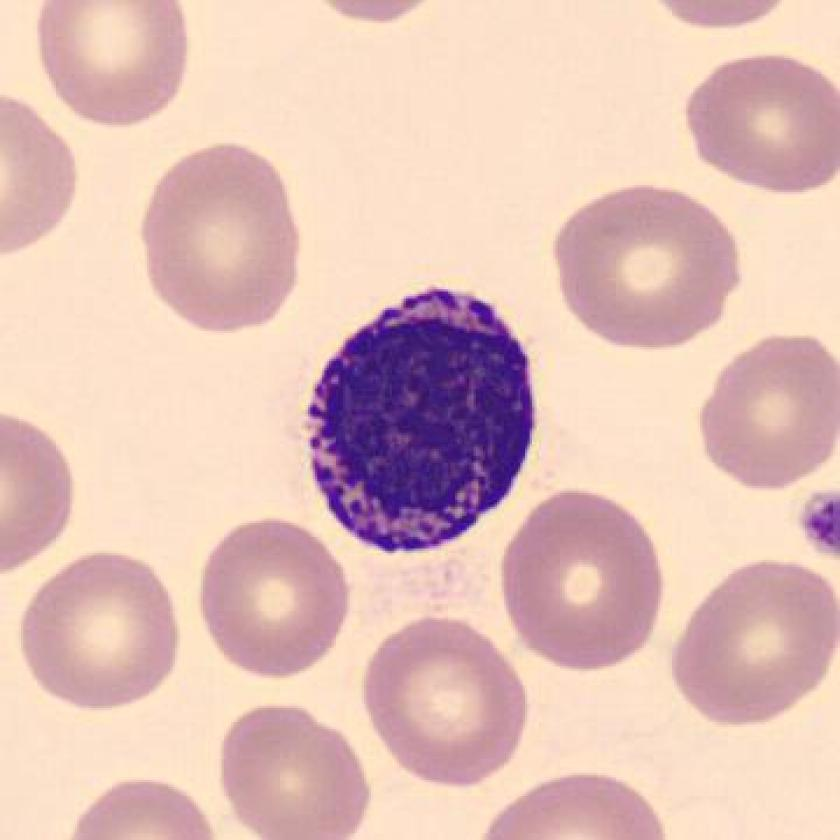basophil: (293, 274, 552, 566)
